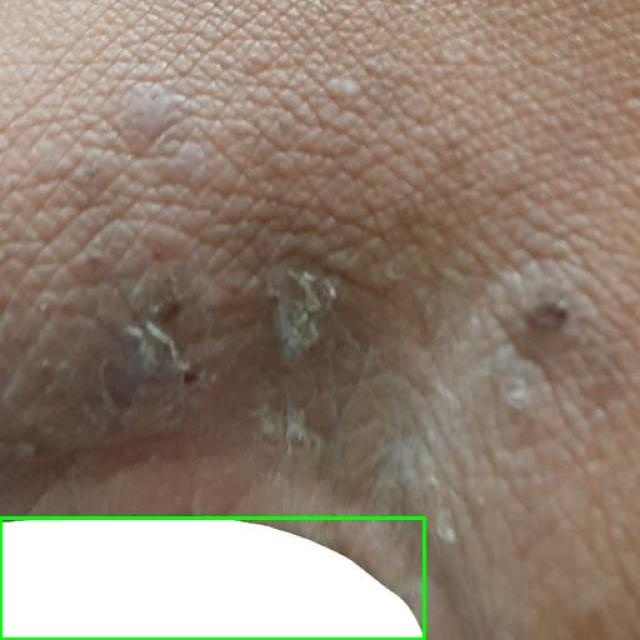Scabies: (0, 518, 424, 639)
